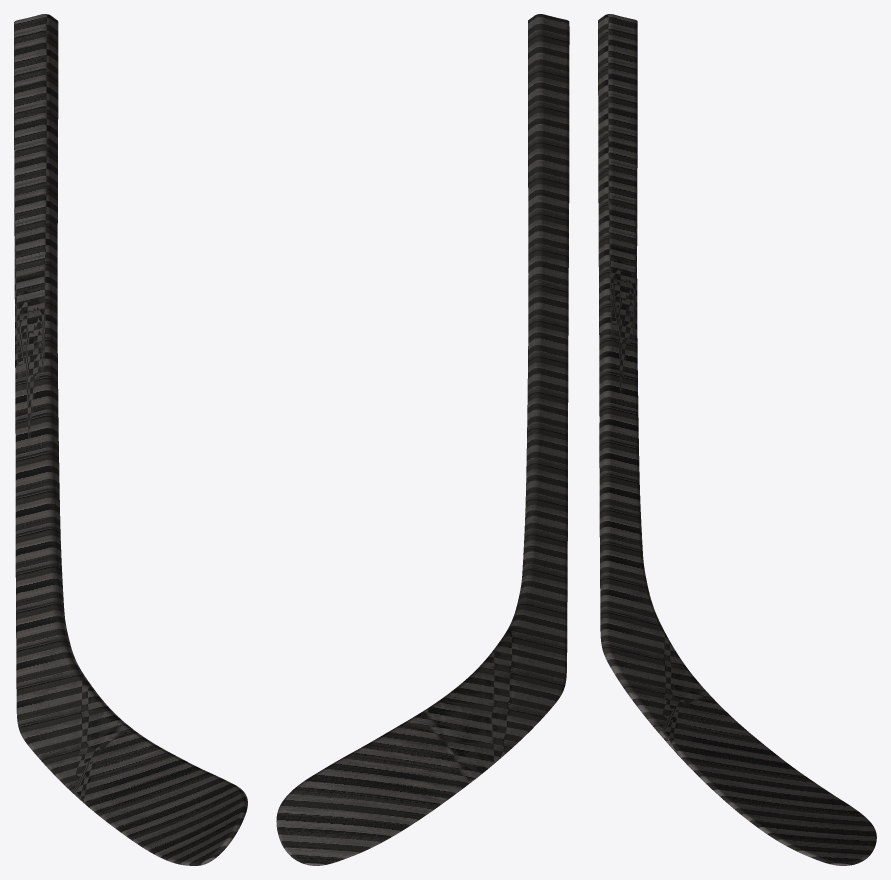
File: P15-SBT.glb
The picture shows the model from 3 angles, left to right: view 1: azimuth 30°, elevation 25°; view 2: azimuth 150°, elevation 25°; view 3: azimuth 330°, elevation 25°; orthographic projection. The views are drawn at different scales.
Parts seen in each view (by area): view 1: geometry_0; view 2: geometry_0; view 3: geometry_0.
Part boxes in pixels (x1,y1,x2,y2): geometry_0: (14,14,247,865); geometry_0: (276,14,569,865); geometry_0: (598,14,876,865).
Size of the model in its own units: 222 by 729 by 72.32.
Materials: 1 (1 with a texture image).
